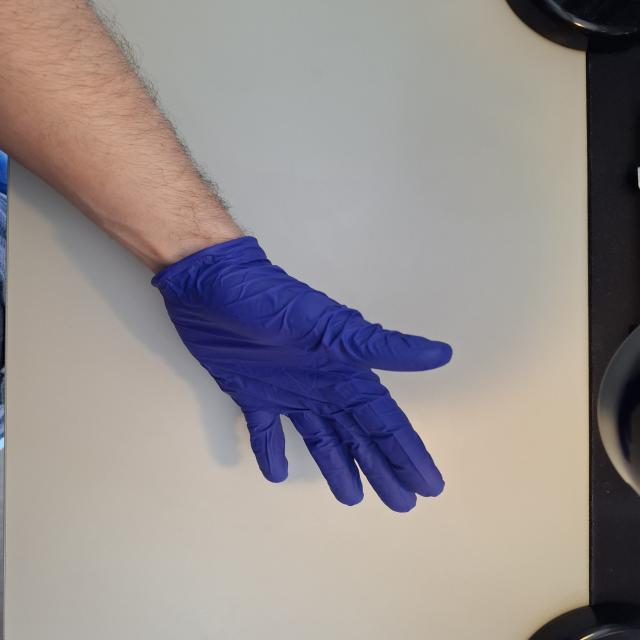glove_on: (151, 235, 456, 515)
